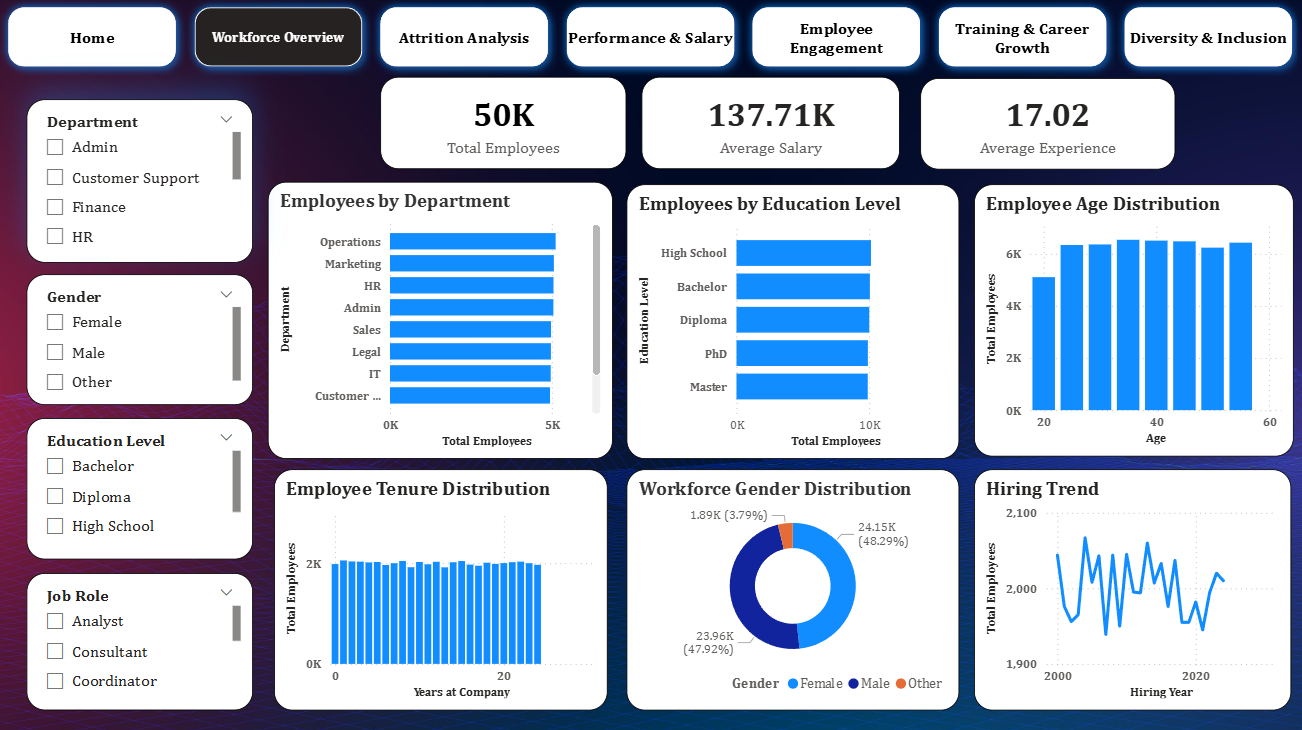

The dashboard page shown, as its layout file describes it:
{"tool":"powerbi","page":{"name":"Workforce Overview","canvas":[1280,720],"ordinal":1},"visuals":[{"type":"image","box":[0,0,1280.1,719.3],"z":0},{"type":"pageNavigator","box":[0,0,1280.1,76.7],"z":2000},{"type":"clusteredBarChart","title":"Employees by Department","fields":{"Category":["HR_Data.Department"],"Y":["CountNonNull(HR_Data.Employee_ID)"]},"box":[262.9,179.8,337.5,271.5],"z":3000},{"type":"card","fields":{"Values":["HR_Data.Total Employees"]},"box":[373,77,240.9,90.5],"z":4000},{"type":"card","fields":{"Values":["HR_Data.Avg Salary"]},"box":[628.5,77,253.1,90.5],"z":5000},{"type":"card","fields":{"Values":["HR_Data.Avg Experience"]},"box":[901.2,78.3,249.5,89.3],"z":6000},{"type":"donutChart","title":"Workforce Gender Distribution","fields":{"Y":["CountNonNull(HR_Data.Employee_ID)"],"Category":["HR_Data.Gender"]},"box":[613.9,461,325.3,236],"z":7000},{"type":"barChart","title":"Employees by Education Level","fields":{"Category":["HR_Data.Education_Level"],"Y":["CountNonNull(HR_Data.Employee_ID)"]},"box":[613.9,182.2,325.3,269],"z":8000},{"type":"clusteredColumnChart","title":"Employee Age Distribution","fields":{"Category":["HR_Data.Age (bins)"],"Y":["CountNonNull(HR_Data.Employee_ID)"]},"box":[953.8,182.2,313,266.6],"z":9000},{"type":"lineChart","title":"Hiring Trend","fields":{"Category":["HR_Data.Hiring_Year"],"Y":["CountNonNull(HR_Data.Employee_ID)"]},"box":[953.8,461,310.6,236],"z":10000},{"type":"clusteredColumnChart","title":"Employee Tenure Distribution","fields":{"Y":["CountNonNull(HR_Data.Employee_ID)"],"Category":["HR_Data.Years_at_Company"]},"box":[269,461,326.5,236],"z":11000},{"type":"slicer","fields":{"Values":["HR_Data.Department"]},"box":[26.9,99,221.3,160.2],"z":12000},{"type":"slicer","fields":{"Values":["HR_Data.Gender"]},"box":[26.9,270.2,221.3,128.4],"z":13000},{"type":"slicer","fields":{"Values":["HR_Data.Education_Level"]},"box":[26.9,410.9,221.3,138.2],"z":14000},{"type":"slicer","fields":{"Values":["HR_Data.Job_Role"]},"box":[26.9,562.5,221.3,134.5],"z":15000}]}

Visuals, with their boxes in screenshot pixels (x1, y1, x2, y2), scaled from the page's 1280x720 canvas onto the 1302x730 screenshot:
image: 0:0:1301:729
pageNavigator: 0:0:1301:78
"Employees by Department" clusteredBarChart: 267:182:611:458
card - HR_Data.Total Employees: 379:78:624:170
card - HR_Data.Avg Salary: 639:78:897:170
card - HR_Data.Avg Experience: 917:79:1170:170
"Workforce Gender Distribution" donutChart: 624:467:955:707
"Employees by Education Level" barChart: 624:185:955:457
"Employee Age Distribution" clusteredColumnChart: 970:185:1289:455
"Hiring Trend" lineChart: 970:467:1286:707
"Employee Tenure Distribution" clusteredColumnChart: 274:467:606:707
slicer - HR_Data.Department: 27:100:252:263
slicer - HR_Data.Gender: 27:274:252:404
slicer - HR_Data.Education_Level: 27:417:252:557
slicer - HR_Data.Job_Role: 27:570:252:707
